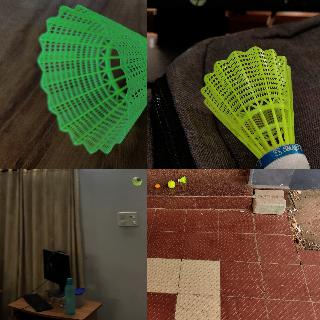shuttlecock: (37, 4, 146, 156), (201, 46, 310, 168), (132, 177, 142, 186), (178, 176, 186, 182)
